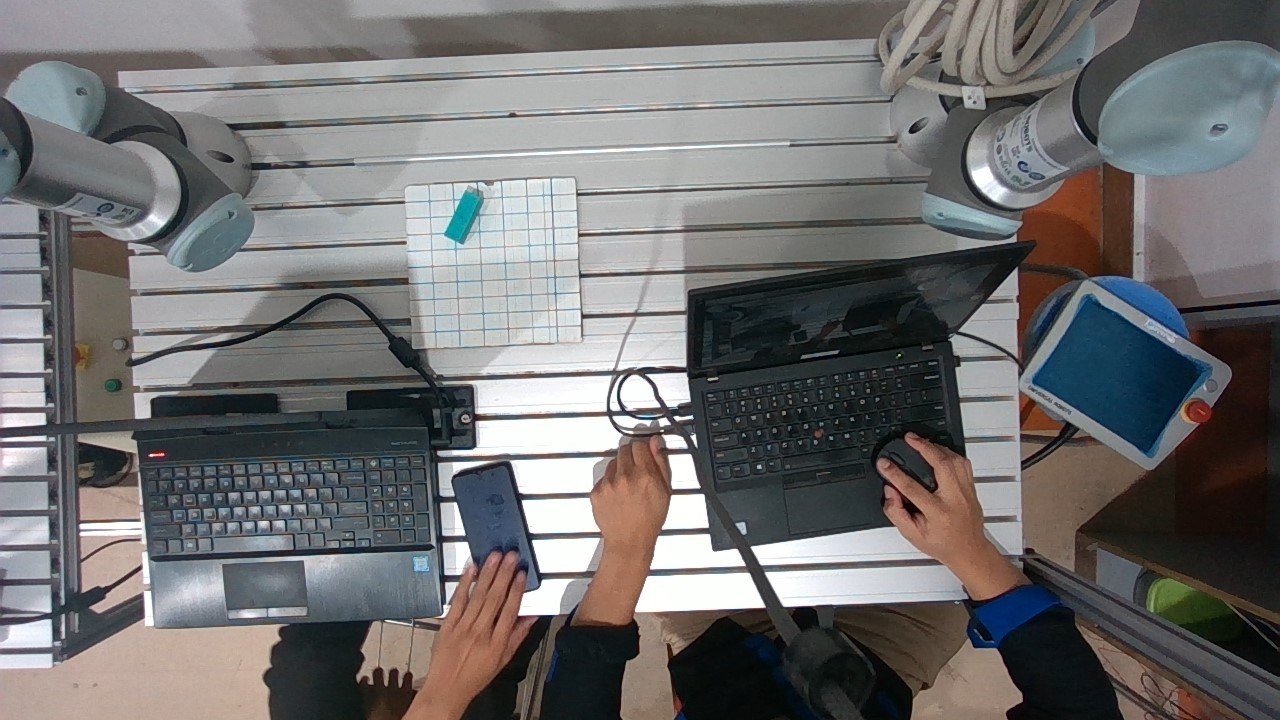box: (436, 181, 494, 250)
